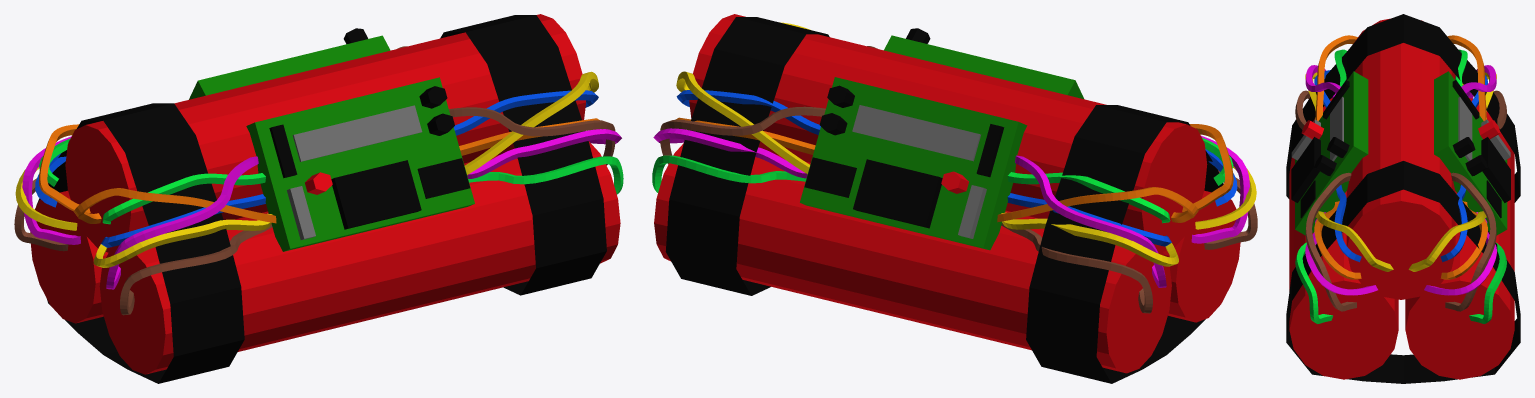
Rendered from TNT Bomb.fbx.
3 renders of one model, left to right at view 1: azimuth 30°, elevation 25°; view 2: azimuth 150°, elevation 25°; view 3: azimuth 270°, elevation 25°, orthographic. The views are drawn at different scales.
Visible parts, largest first — view 1: Cylinder; view 2: Cylinder; view 3: Cylinder.
Boxes of the visible parts, <box> form: Cylinder: <box>14,14,623,383</box>; Cylinder: <box>652,14,1257,383</box>; Cylinder: <box>1286,14,1520,383</box>.
Bounding box in the file's own units: 61.73 × 26.47 × 28.89.
